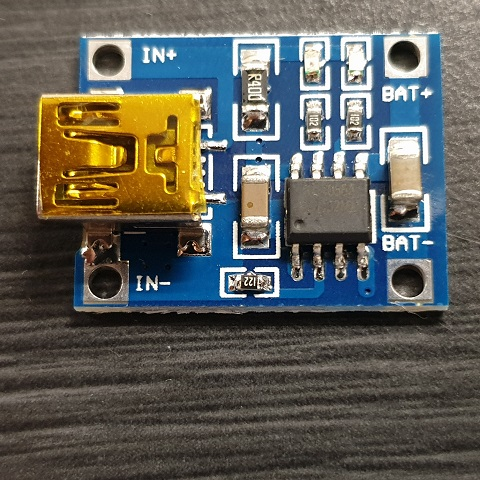batt+: (386, 35, 432, 79)
batt-: (386, 258, 430, 302)
charge: (300, 34, 336, 88)
done: (340, 32, 368, 86)
rprog: (223, 265, 283, 297)
usb: (41, 92, 194, 214)
